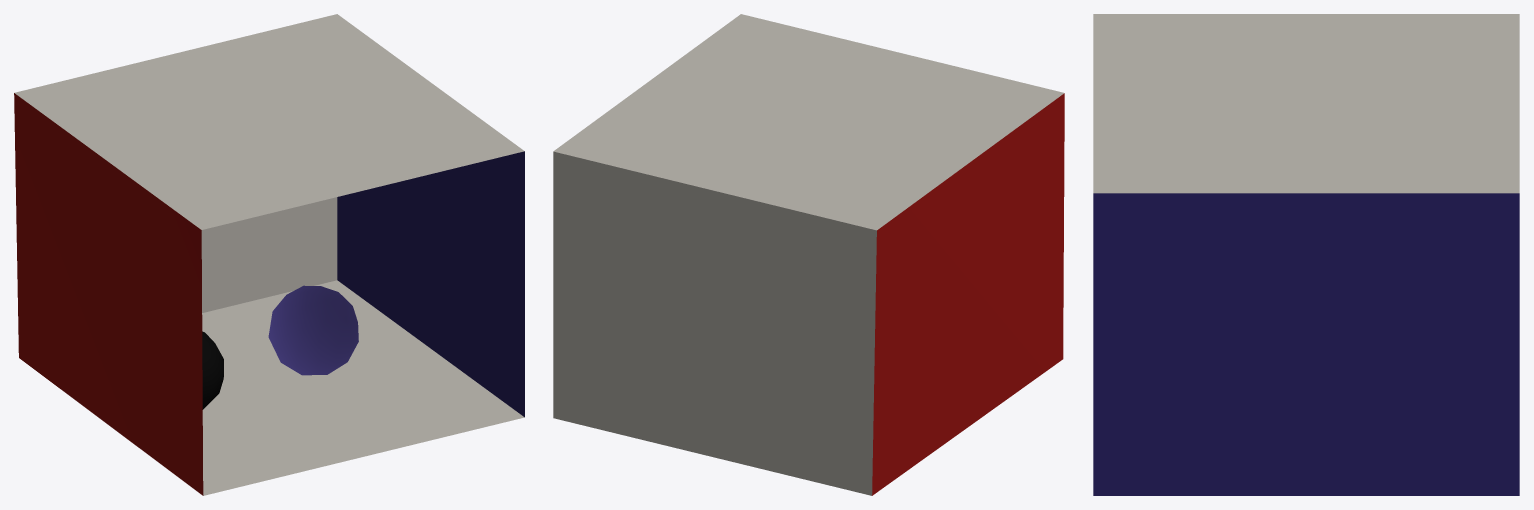
File: CornellBox-Sphere-561.obj
3 renders of one model, left to right at view 1: azimuth 30°, elevation 25°; view 2: azimuth 150°, elevation 25°; view 3: azimuth 270°, elevation 25°, orthographic. The views are drawn at different scales.
Visible parts, largest first — view 1: ceiling, leftWall, floor, rightWall, backWall, leftSphere, rightSphere; view 2: backWall, ceiling, leftWall; view 3: rightWall, ceiling.
Boxes of the visible parts, box(x1,y1,x2,y2) form: ceiling: box(14, 14, 524, 229); leftWall: box(14, 93, 203, 495); floor: box(202, 280, 524, 495); rightWall: box(337, 151, 524, 417); backWall: box(201, 197, 337, 312); leftSphere: box(268, 285, 358, 375); rightSphere: box(202, 331, 223, 409); backWall: box(553, 151, 876, 495); ceiling: box(553, 14, 1064, 230); leftWall: box(872, 93, 1064, 495); rightWall: box(1093, 193, 1519, 495); ceiling: box(1093, 14, 1519, 193).
Bounding box in the file's own units: 2.02 × 1.59 × 2.03.
